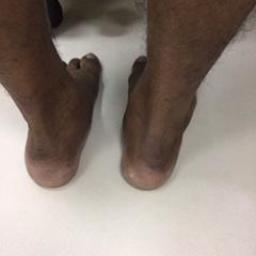Back View -Both Feet-: (2, 36, 222, 201)
